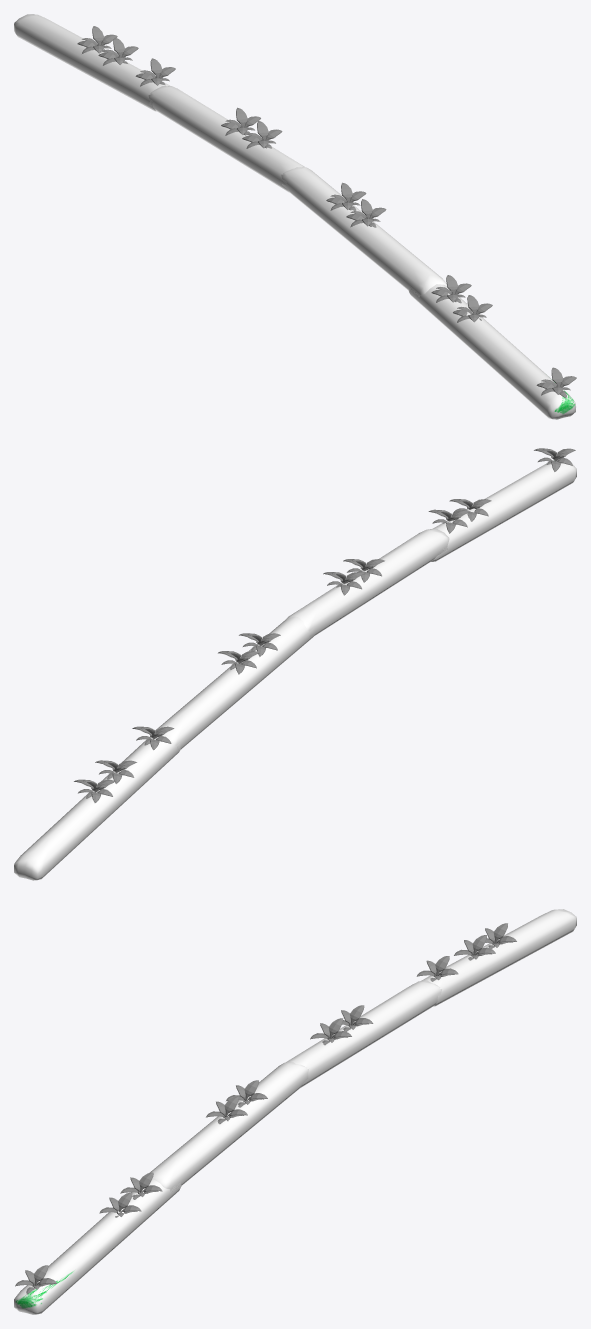
The model's file is hatake.fbx.
The picture shows the model from 3 angles, top to bottom: view 1: azimuth 30°, elevation 25°; view 2: azimuth 150°, elevation 25°; view 3: azimuth 330°, elevation 25°; orthographic projection.
Visible parts, largest first — view 1: node_id22, node_id18, node_id20, node_id12, node_id6, node_id24, node_id4, node_id26, node_id8, node_id30, node_id10, node_id14 (+2 smaller); view 2: node_id12, node_id20, node_id22, node_id18; view 3: node_id22, node_id18, node_id20, node_id12, node_id6, node_id24, node_id26.
Boxes of the visible parts, x1=… form: node_id22: x1=281, y1=166, x2=446, y2=297; node_id18: x1=408, y1=284, x2=575, y2=419; node_id20: x1=148, y1=85, x2=304, y2=192; node_id12: x1=14, y1=14, x2=169, y2=111; node_id6: x1=536, y1=367, x2=576, y2=398; node_id24: x1=346, y1=199, x2=386, y2=227; node_id4: x1=242, y1=121, x2=282, y2=148; node_id26: x1=431, y1=275, x2=471, y2=303; node_id8: x1=326, y1=182, x2=366, y2=210; node_id30: x1=221, y1=107, x2=260, y2=135; node_id10: x1=135, y1=58, x2=175, y2=86; node_id14: x1=98, y1=37, x2=138, y2=65; node_id12: x1=14, y1=734, x2=180, y2=880; node_id20: x1=155, y1=616, x2=314, y2=749; node_id22: x1=284, y1=529, x2=449, y2=636; node_id18: x1=431, y1=460, x2=576, y2=561; node_id22: x1=149, y1=1061, x2=308, y2=1191; node_id18: x1=14, y1=1179, x2=181, y2=1314; node_id20: x1=287, y1=980, x2=441, y2=1087; node_id12: x1=421, y1=909, x2=576, y2=1006; node_id6: x1=15, y1=1265, x2=56, y2=1294; node_id24: x1=206, y1=1096, x2=247, y2=1124; node_id26: x1=120, y1=1172, x2=162, y2=1199.
Size of the model in its own units: 0.2605 by 0.5061 by 6.47.
Materials: 14 (1 with a texture image).
